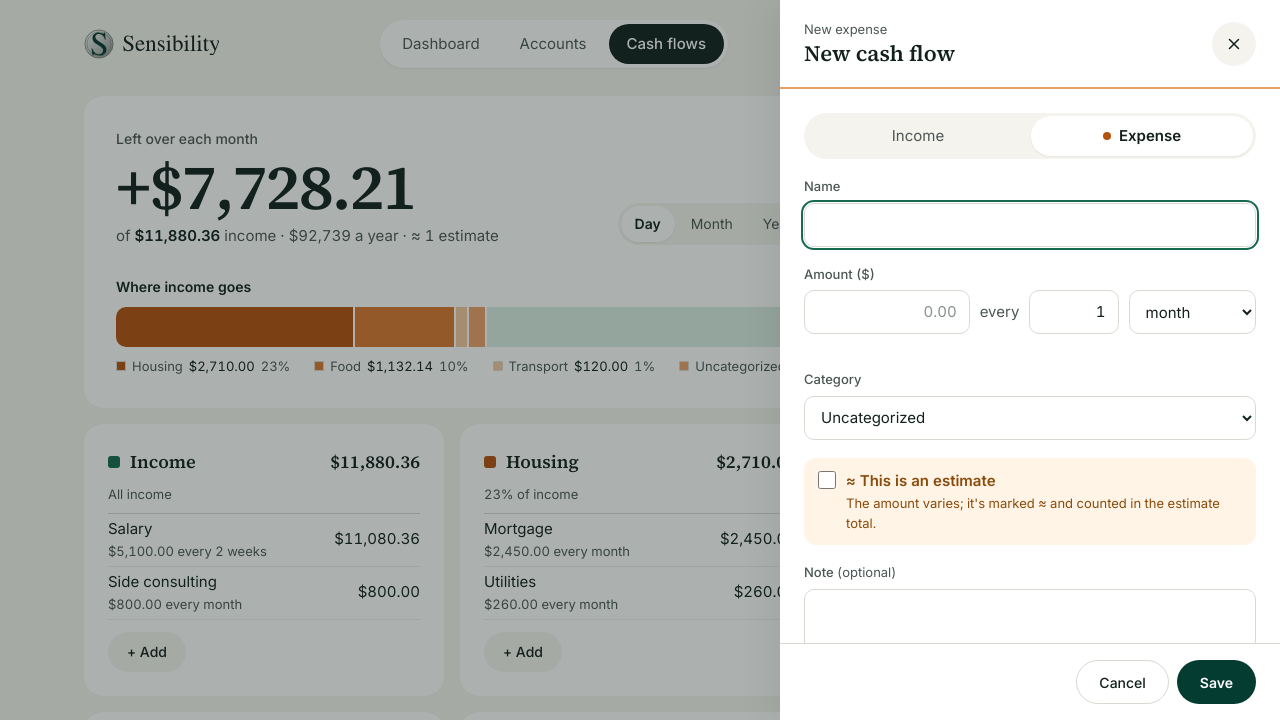
Scenario: the cash flow drawer, new › shows the server's Amount is too large
This screenshot has width=1280, height=720.
Check: the dialog is shown, box x1=780 y1=0 x2=1279 y2=719
Type "Gym" into the field labelled "Name".
click(1030, 224); type("Gym")  # box x1=804 y1=202 x2=1256 y2=246
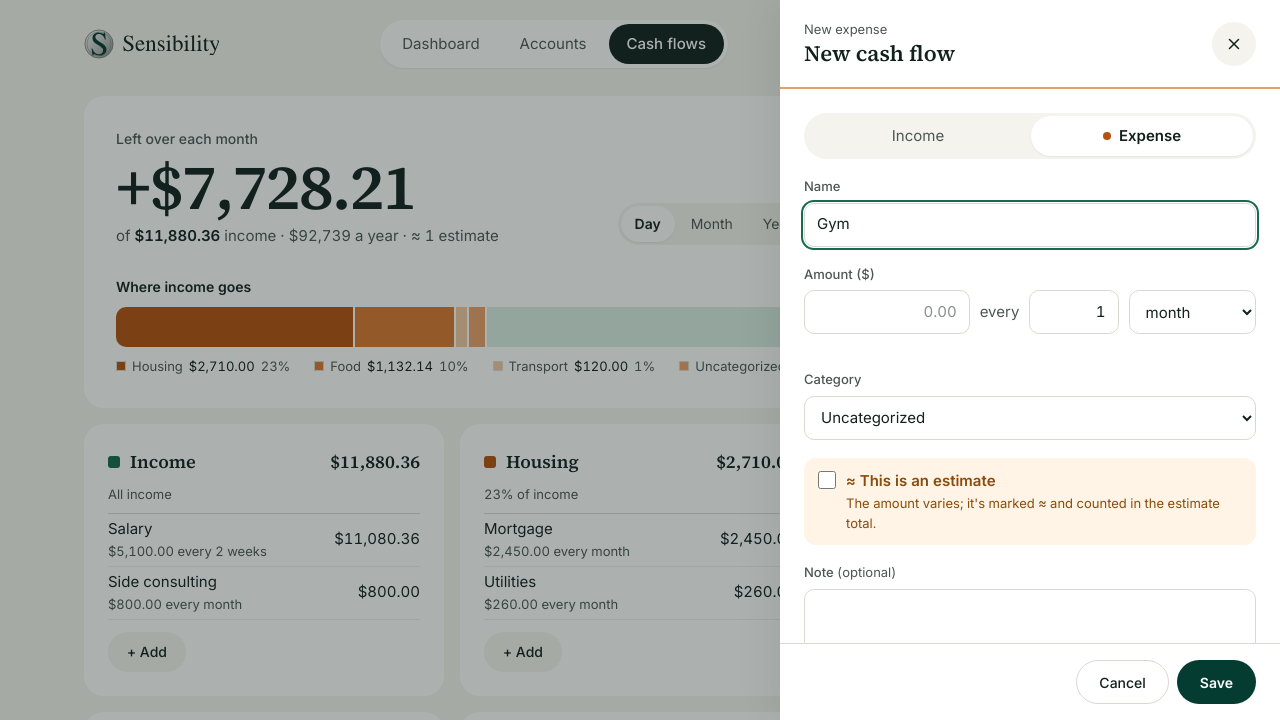
Type "10000000000000" into the field labelled "Amount ($)".
click(887, 312); type("10000000000000")  # box x1=804 y1=290 x2=970 y2=334
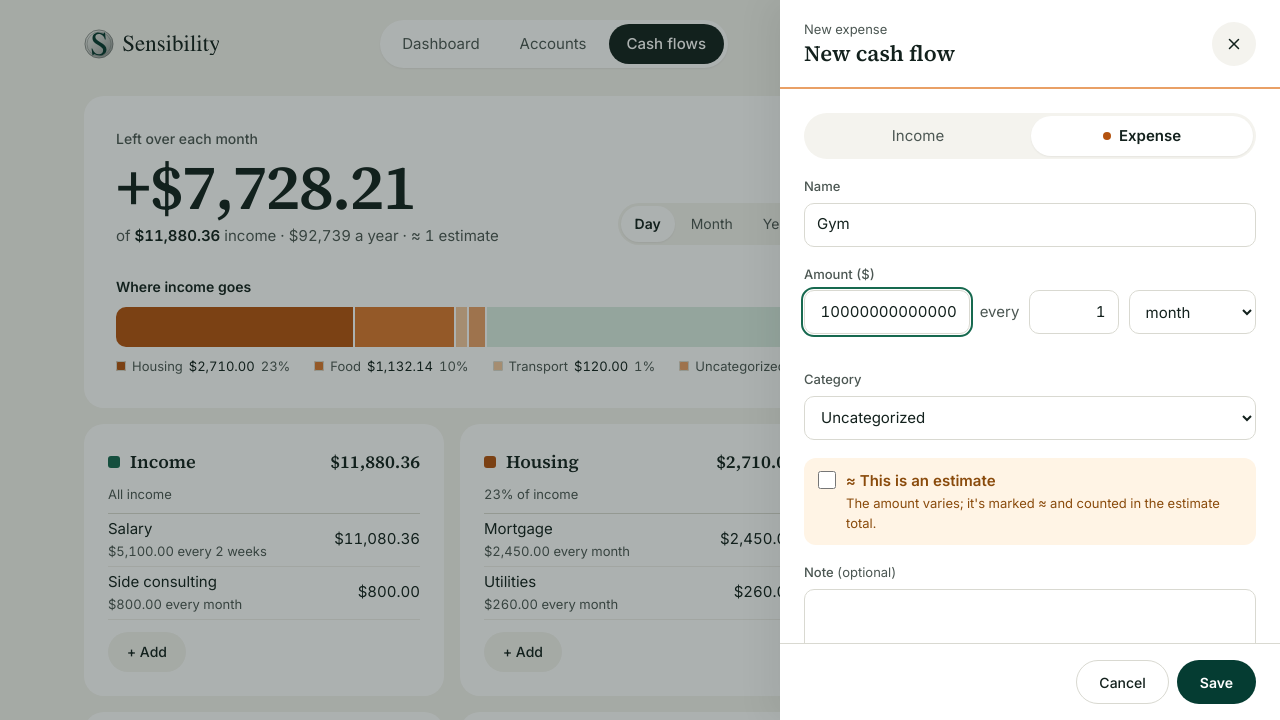
Click the button "Save".
click(1216, 682)  # box x1=1177 y1=660 x2=1256 y2=704
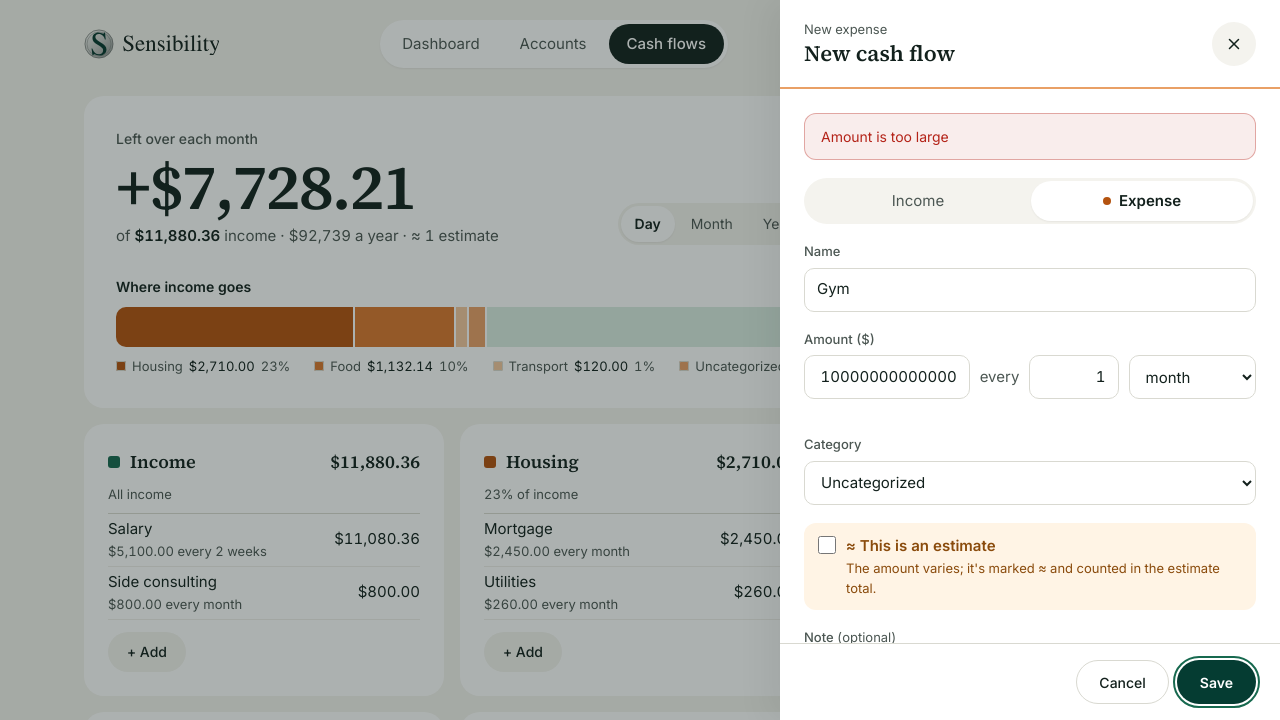
Check: the message reads "Amount is too large", box x1=821 y1=128 x2=949 y2=145
